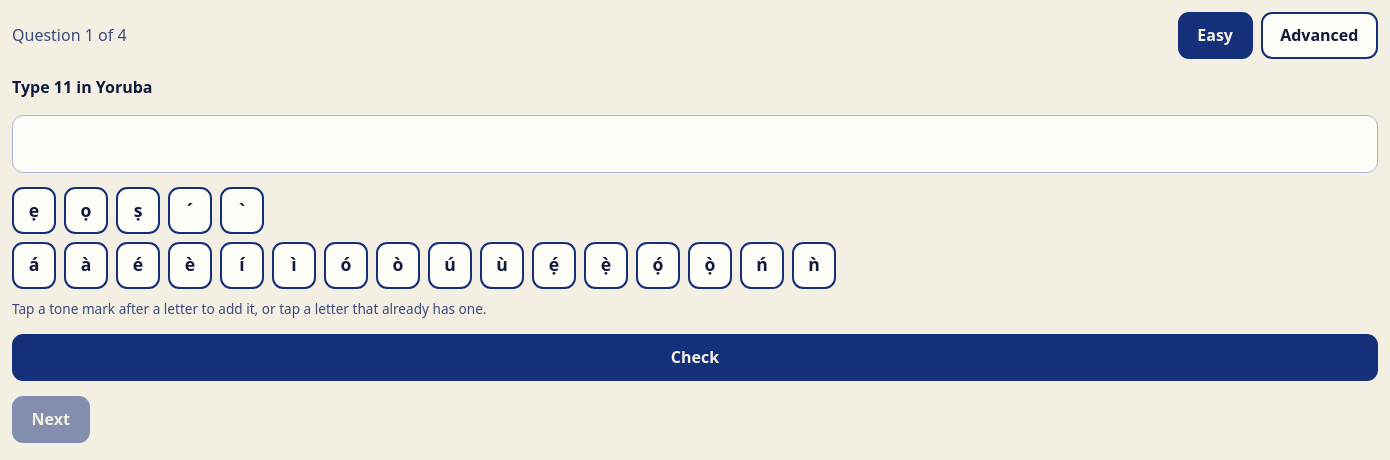
NumbersPractice › inserts a tapped letter at the caret
Type "m" into the field with test id "numbers-input".
click(695, 144); type("m")  # box [12,115,1378,173]
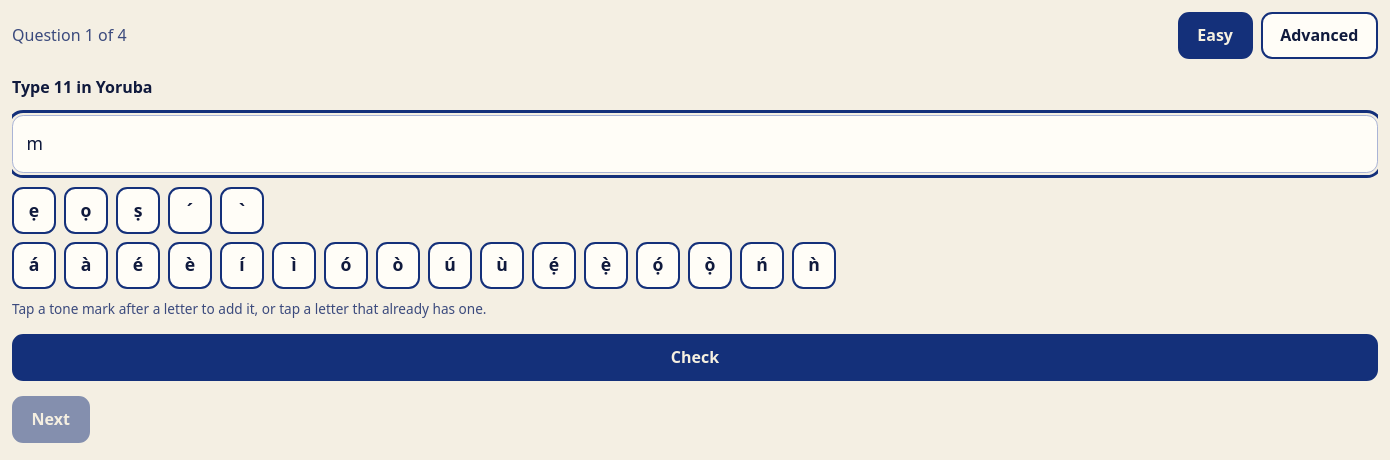
Click the button "ọ".
click(86, 211)  # box [64,187,108,234]
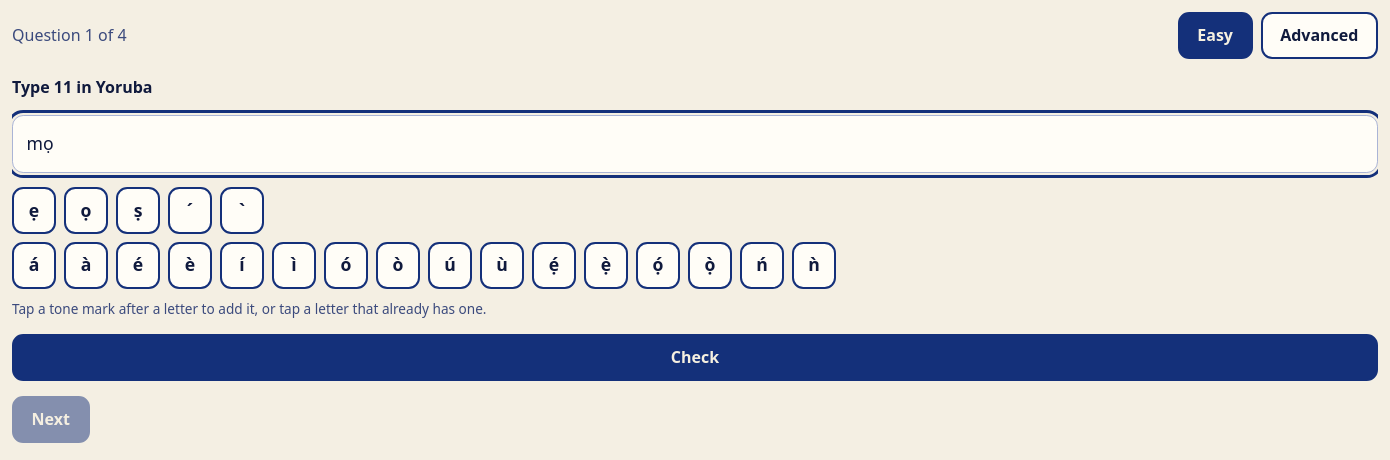
Now the field with test id "numbers-input" holds "mọ", box [12,115,1378,173]
